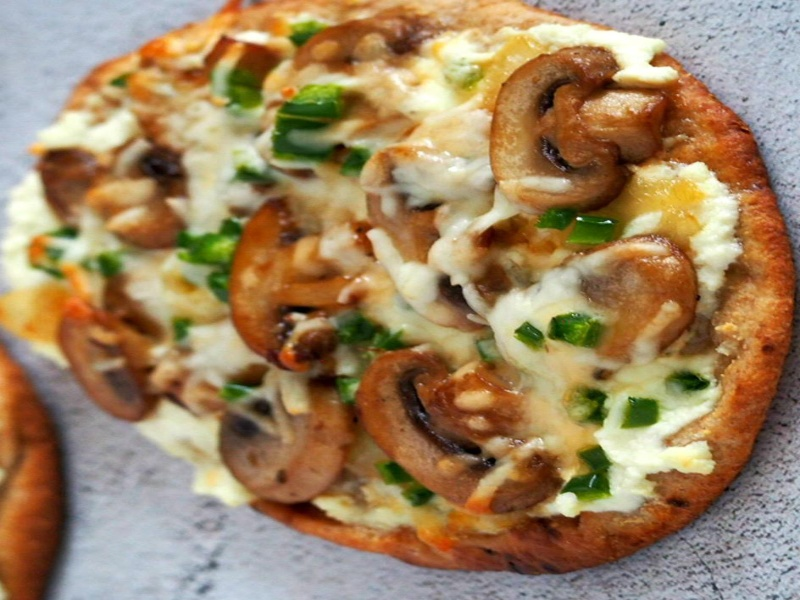champignon: (353, 341, 585, 519), (490, 44, 670, 216)
